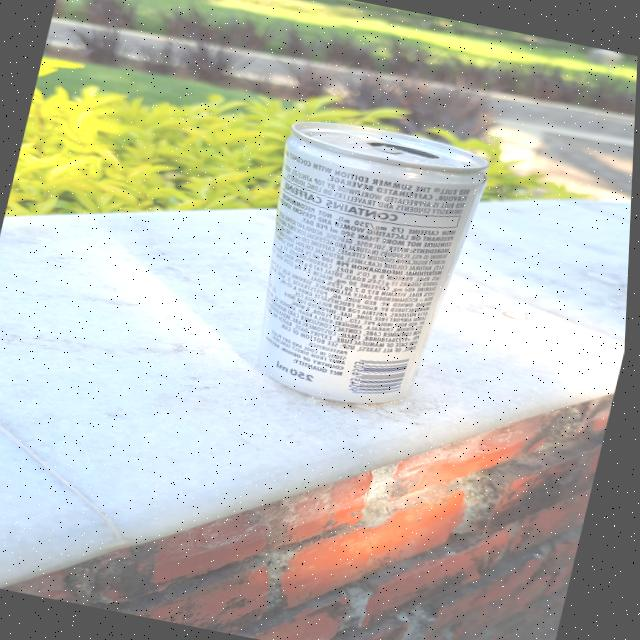Redbull Summer Edition: (218, 108, 510, 432)
